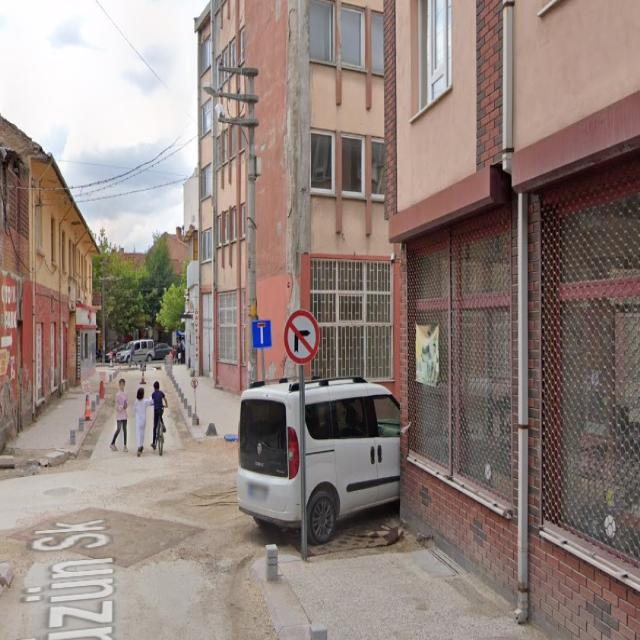sagadonulmez: (286, 310, 320, 362)
